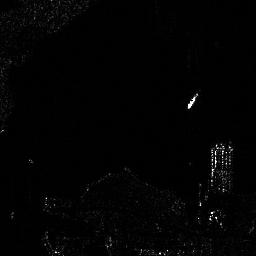ship: (186, 91, 199, 110)
